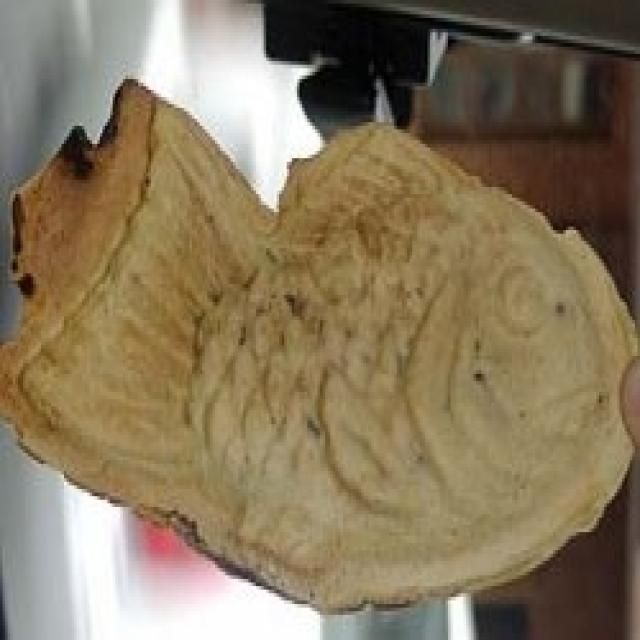熟制海鲜: (0, 69, 640, 612)
